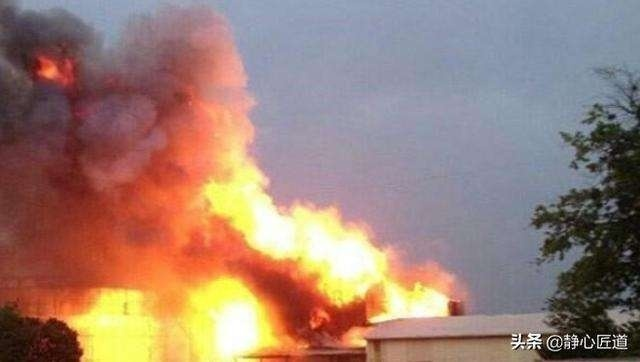fire: (63, 270, 288, 360)
